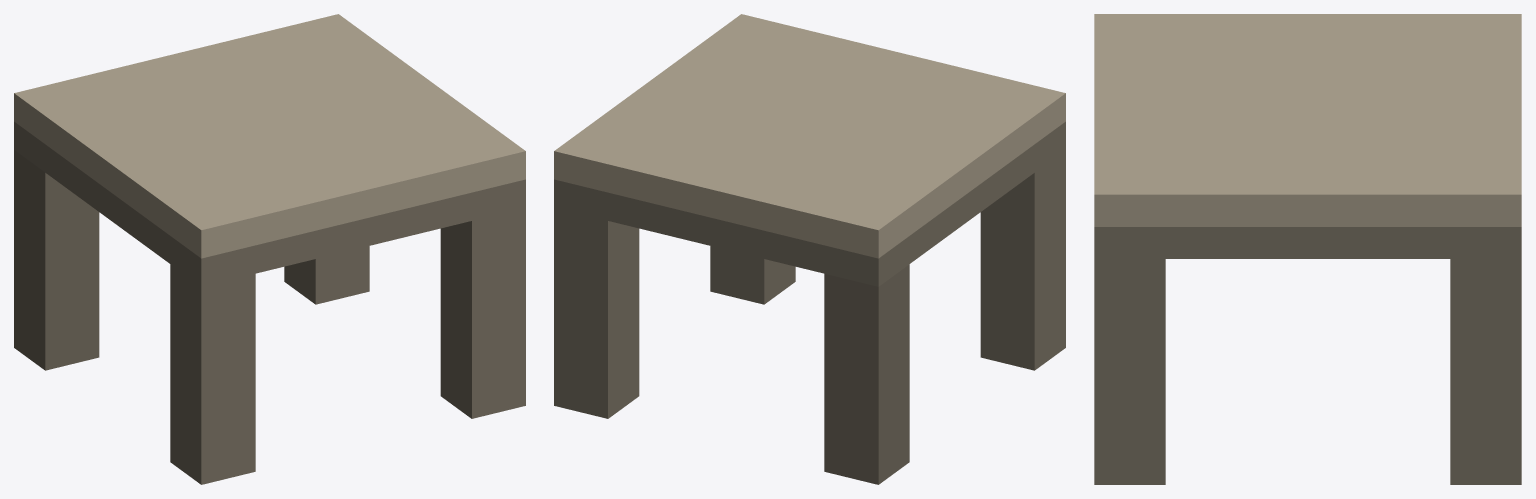
Rendered from mesa_mezcla_desgastada_01.glb.
3 views of the same model, side by side, from view 1: azimuth 30°, elevation 25°; view 2: azimuth 150°, elevation 25°; view 3: azimuth 270°, elevation 25° (orthographic). The views are drawn at different scales.
Visible parts, largest first — view 1: mesa_mezcla_desgastada; view 2: mesa_mezcla_desgastada; view 3: mesa_mezcla_desgastada.
Boxes of the visible parts, x1=… form: mesa_mezcla_desgastada: x1=14, y1=14, x2=525, y2=484; mesa_mezcla_desgastada: x1=554, y1=14, x2=1065, y2=484; mesa_mezcla_desgastada: x1=1094, y1=14, x2=1521, y2=484.
Size of the model in its own units: 1 by 0.75 by 1.
